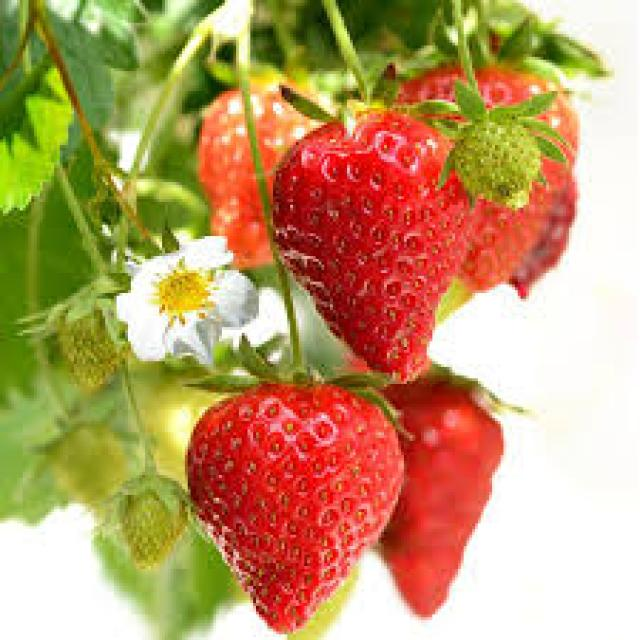strawberry: (167, 355, 418, 628), (264, 101, 482, 386)
